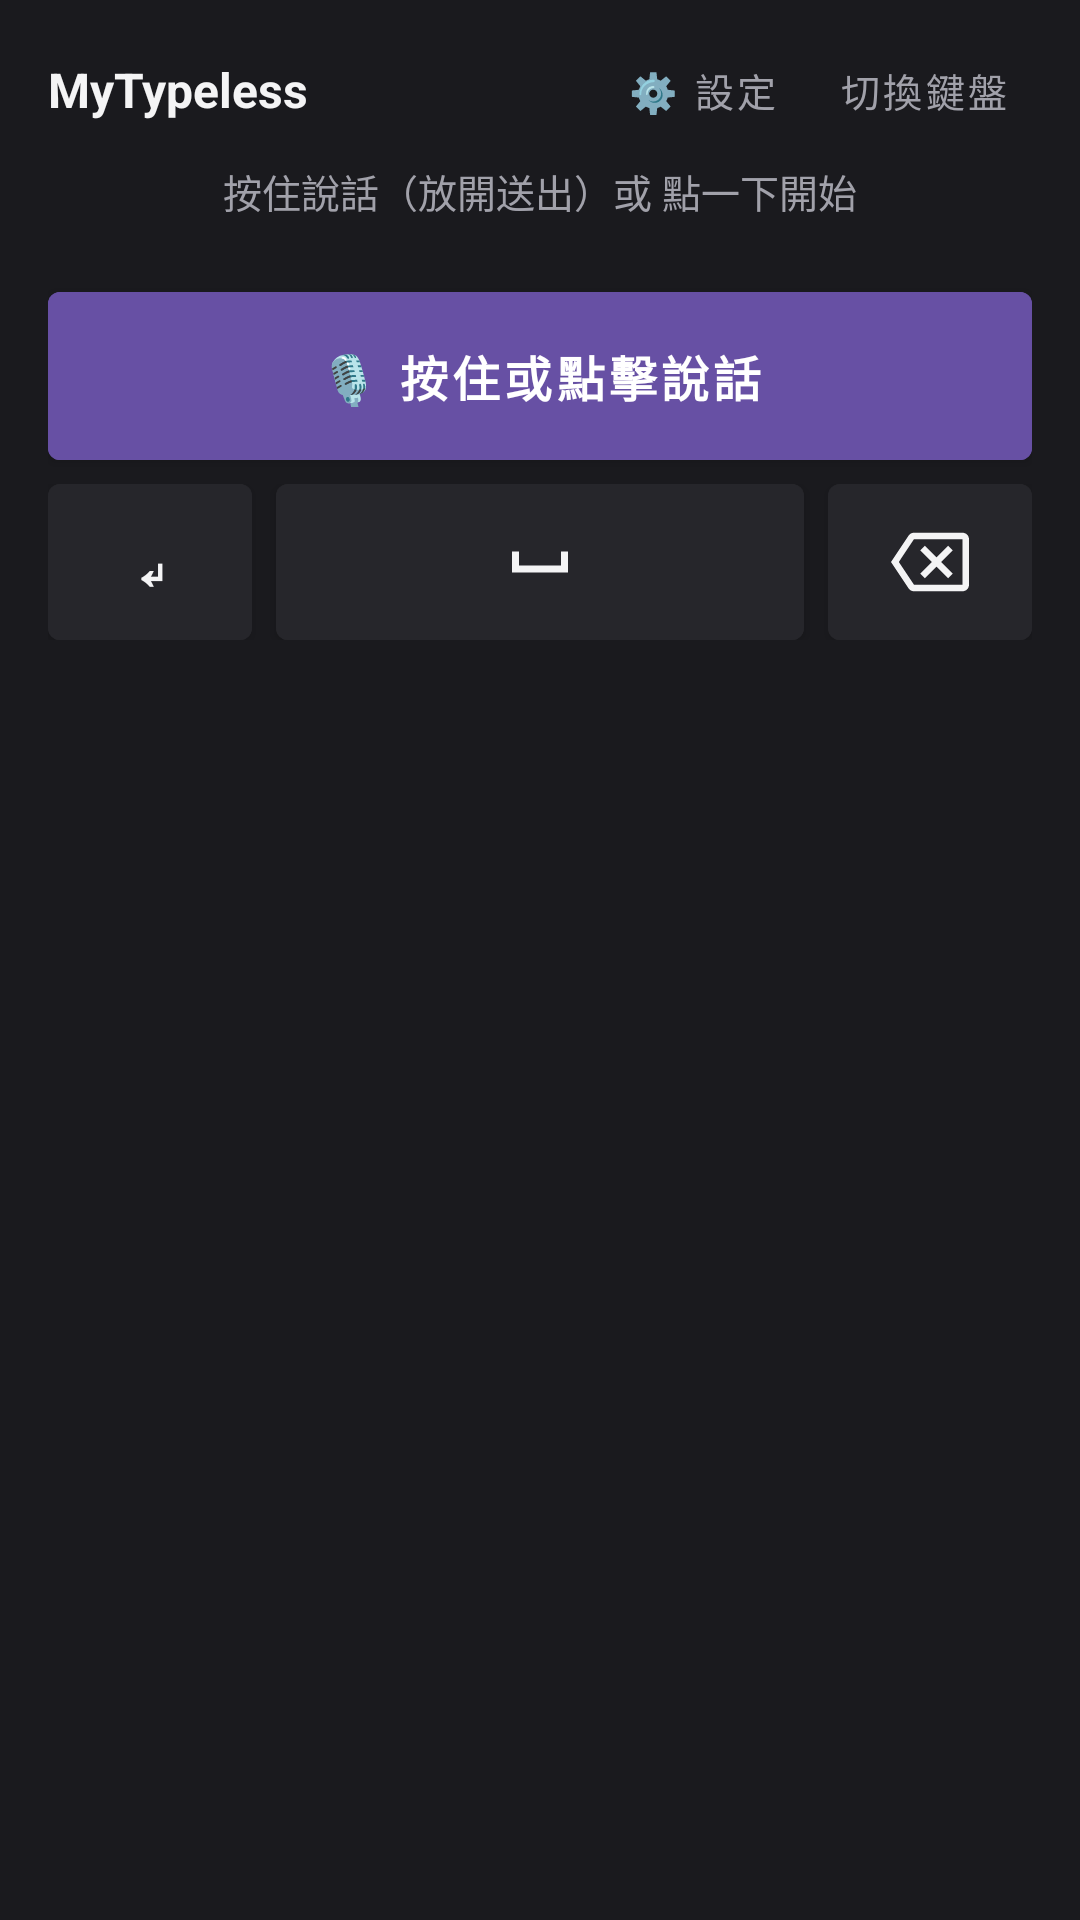

Named icons in this screenshot (1080 × 1920) and their bounding boxes, (x1, y1, x2, y2):
空白鍵: (512, 551, 568, 573)
退格刪除: (828, 484, 1032, 640)
